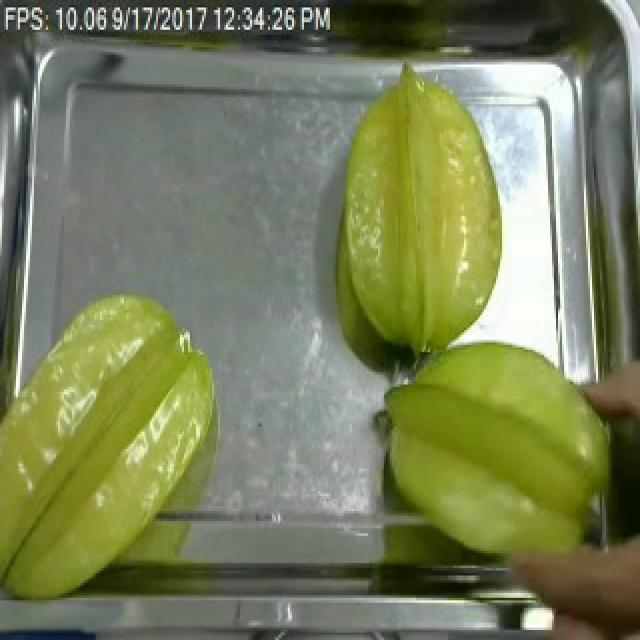fruit: (0, 280, 224, 610), (370, 332, 628, 573), (324, 64, 512, 370)
